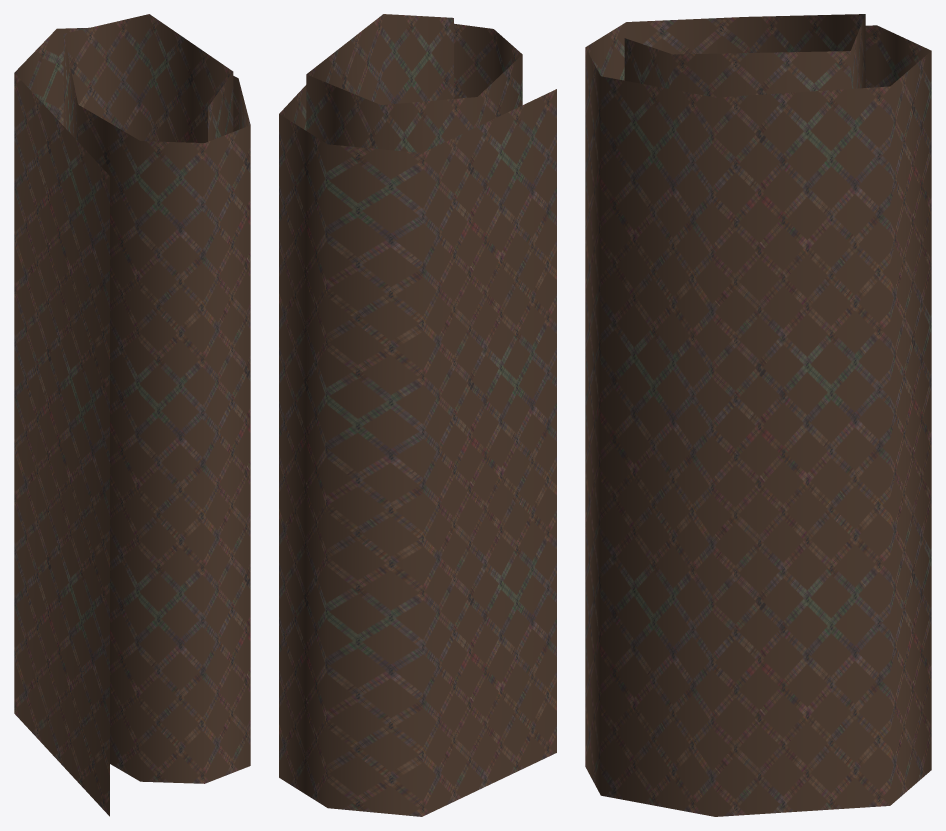
The model's file is junk_grid_roll.FBX.
The picture shows the model from 3 angles, left to right: view 1: azimuth 30°, elevation 25°; view 2: azimuth 150°, elevation 25°; view 3: azimuth 270°, elevation 25°; orthographic projection. The views are drawn at different scales.
Parts seen in each view (by area): view 1: junk_grid_roll; view 2: junk_grid_roll; view 3: junk_grid_roll.
Part boxes in pixels (left/top/right/bottom): junk_grid_roll: left=14, top=14, right=250, bottom=816; junk_grid_roll: left=279, top=14, right=556, bottom=816; junk_grid_roll: left=585, top=14, right=931, bottom=816.
Size of what is drawn, in the model's own units: 53.16 by 208 by 83.76.
